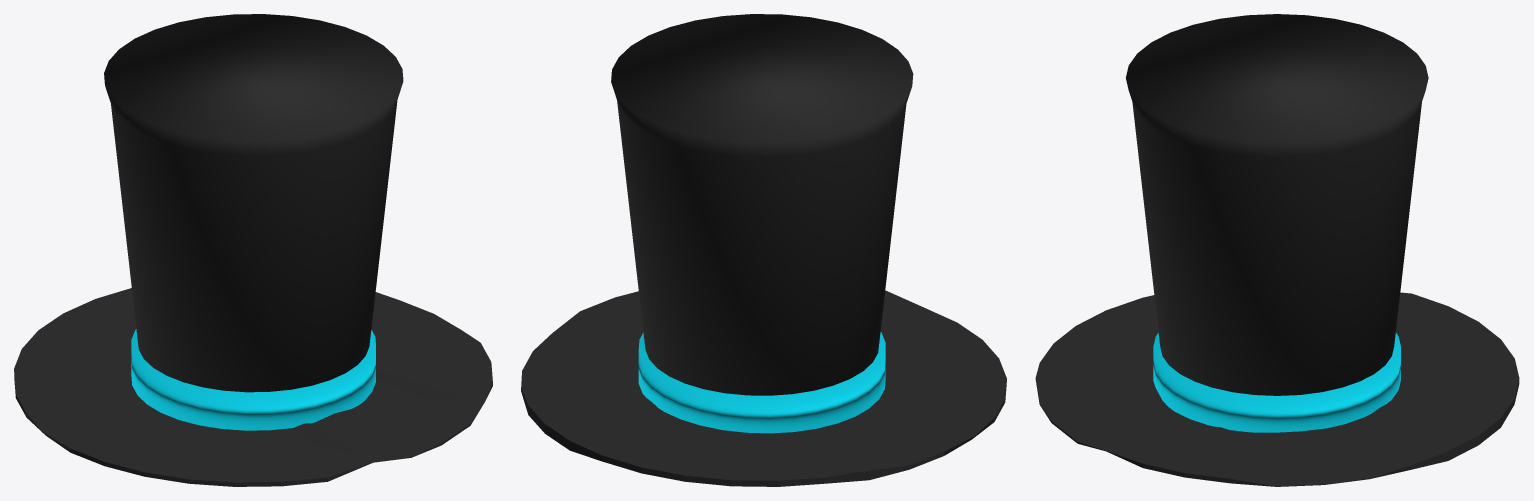
Rendered from tophat5.fbx.
3 renders of one model, left to right at view 1: azimuth 30°, elevation 25°; view 2: azimuth 150°, elevation 25°; view 3: azimuth 270°, elevation 25°, orthographic.
Visible parts, largest first — view 1: Cylinder.001, Cylinder, Cylinder.002; view 2: Cylinder.001, Cylinder, Cylinder.002; view 3: Cylinder.001, Cylinder, Cylinder.002.
Boxes of the visible parts, x1,y1,x2,y2 form: Cylinder.001: [104, 14, 403, 392]; Cylinder: [14, 288, 492, 486]; Cylinder.002: [131, 329, 375, 430]; Cylinder.001: [611, 14, 913, 395]; Cylinder: [521, 290, 1006, 486]; Cylinder.002: [638, 332, 885, 433]; Cylinder.001: [1126, 14, 1428, 395]; Cylinder: [1035, 292, 1519, 486]; Cylinder.002: [1153, 332, 1400, 432].
Size of the model in its own units: 959 by 674 by 952.
